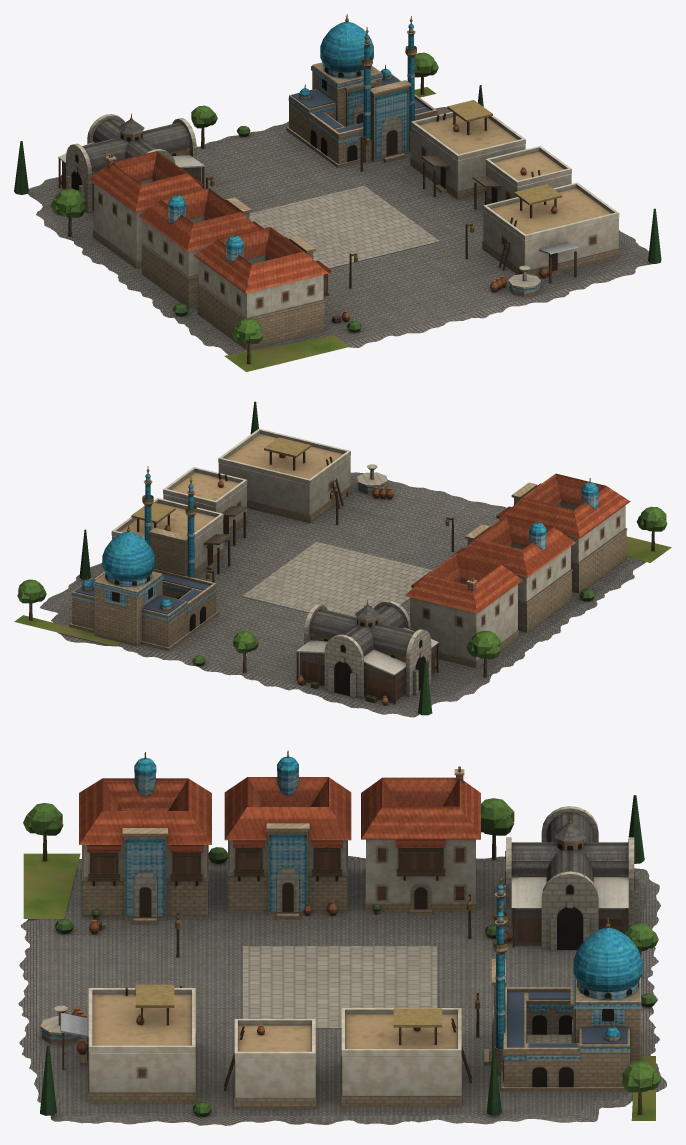
File: gunpowder-town-small-a-levant.glb
The picture shows the model from 3 angles, top to bottom: view 1: azimuth 30°, elevation 25°; view 2: azimuth 150°, elevation 25°; view 3: azimuth 270°, elevation 25°; orthographic projection. The views are drawn at different scales.
Visible parts, largest first — view 1: LOD0; view 2: LOD0; view 3: LOD0.
Boxes of the visible parts, <box> form: LOD0: <box>14,14,661,371</box>; LOD0: <box>14,401,671,717</box>; LOD0: <box>18,750,666,1125</box>.
Size of what is drawn, in the model's own units: 4.04 by 1.2 by 4.06.
Materials: 3 (3 with a texture image).
